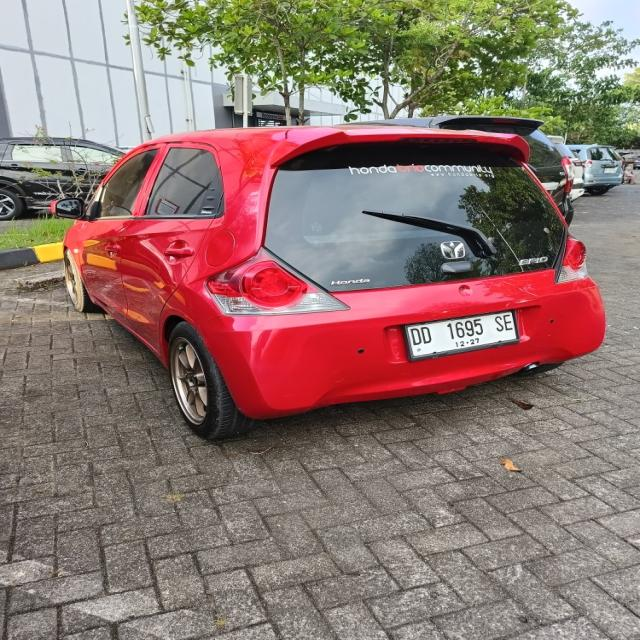plates: (399, 310, 523, 366)
